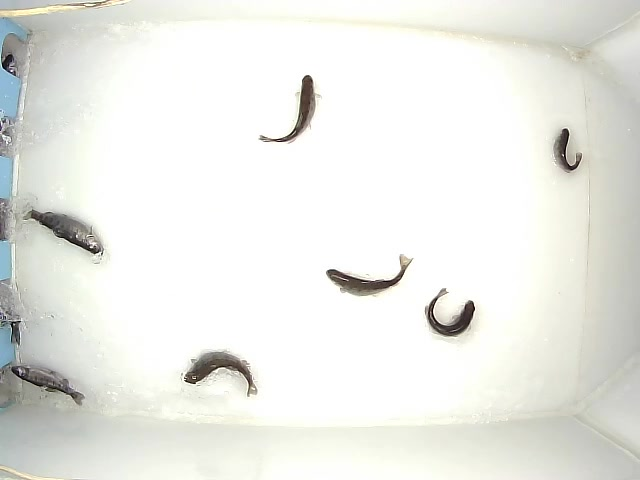fish: (257, 73, 323, 144), (20, 208, 105, 258), (325, 253, 414, 298), (182, 348, 258, 398), (10, 364, 88, 407), (424, 286, 476, 339), (551, 127, 583, 174)
